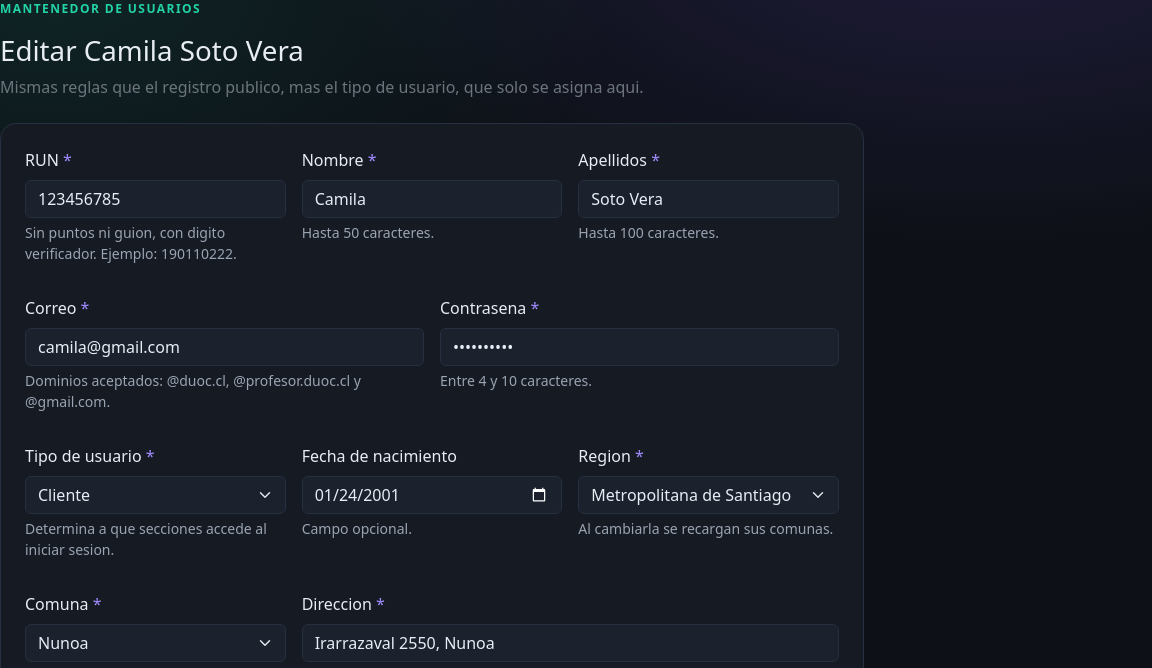
admin / FormularioUsuario › editar › un correo de otro usuario se rechaza al editar
Replace the text in the field labelled "Correo *" with "matias@gmail.com" at (224, 347), box [25, 328, 424, 366]
(page scrolled)
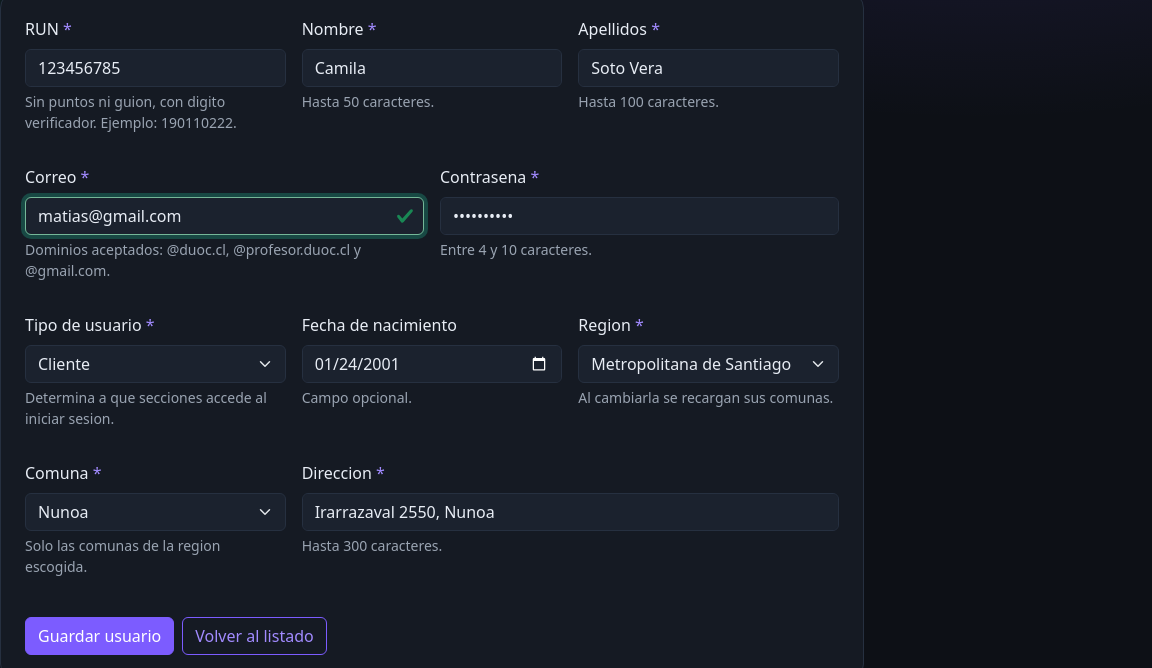
Click the button "Guardar usuario" at (100, 636), box [25, 617, 174, 655]
(page scrolled)
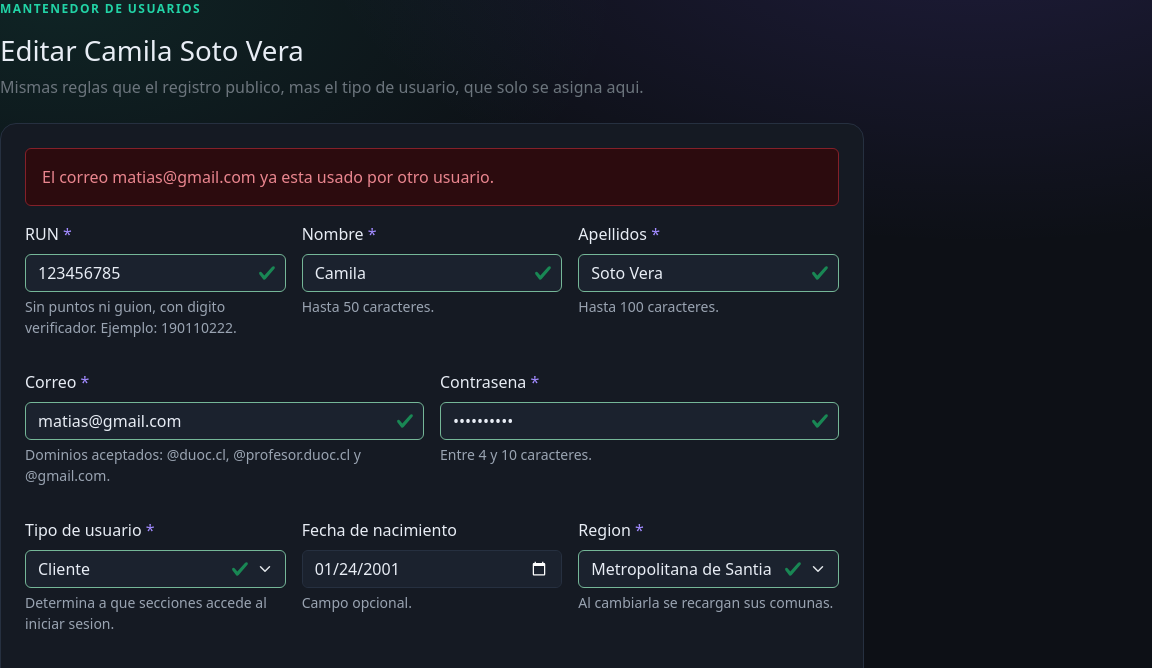
Expected: the message shows "ya esta usado por otro usuario", [42, 166, 494, 188]
